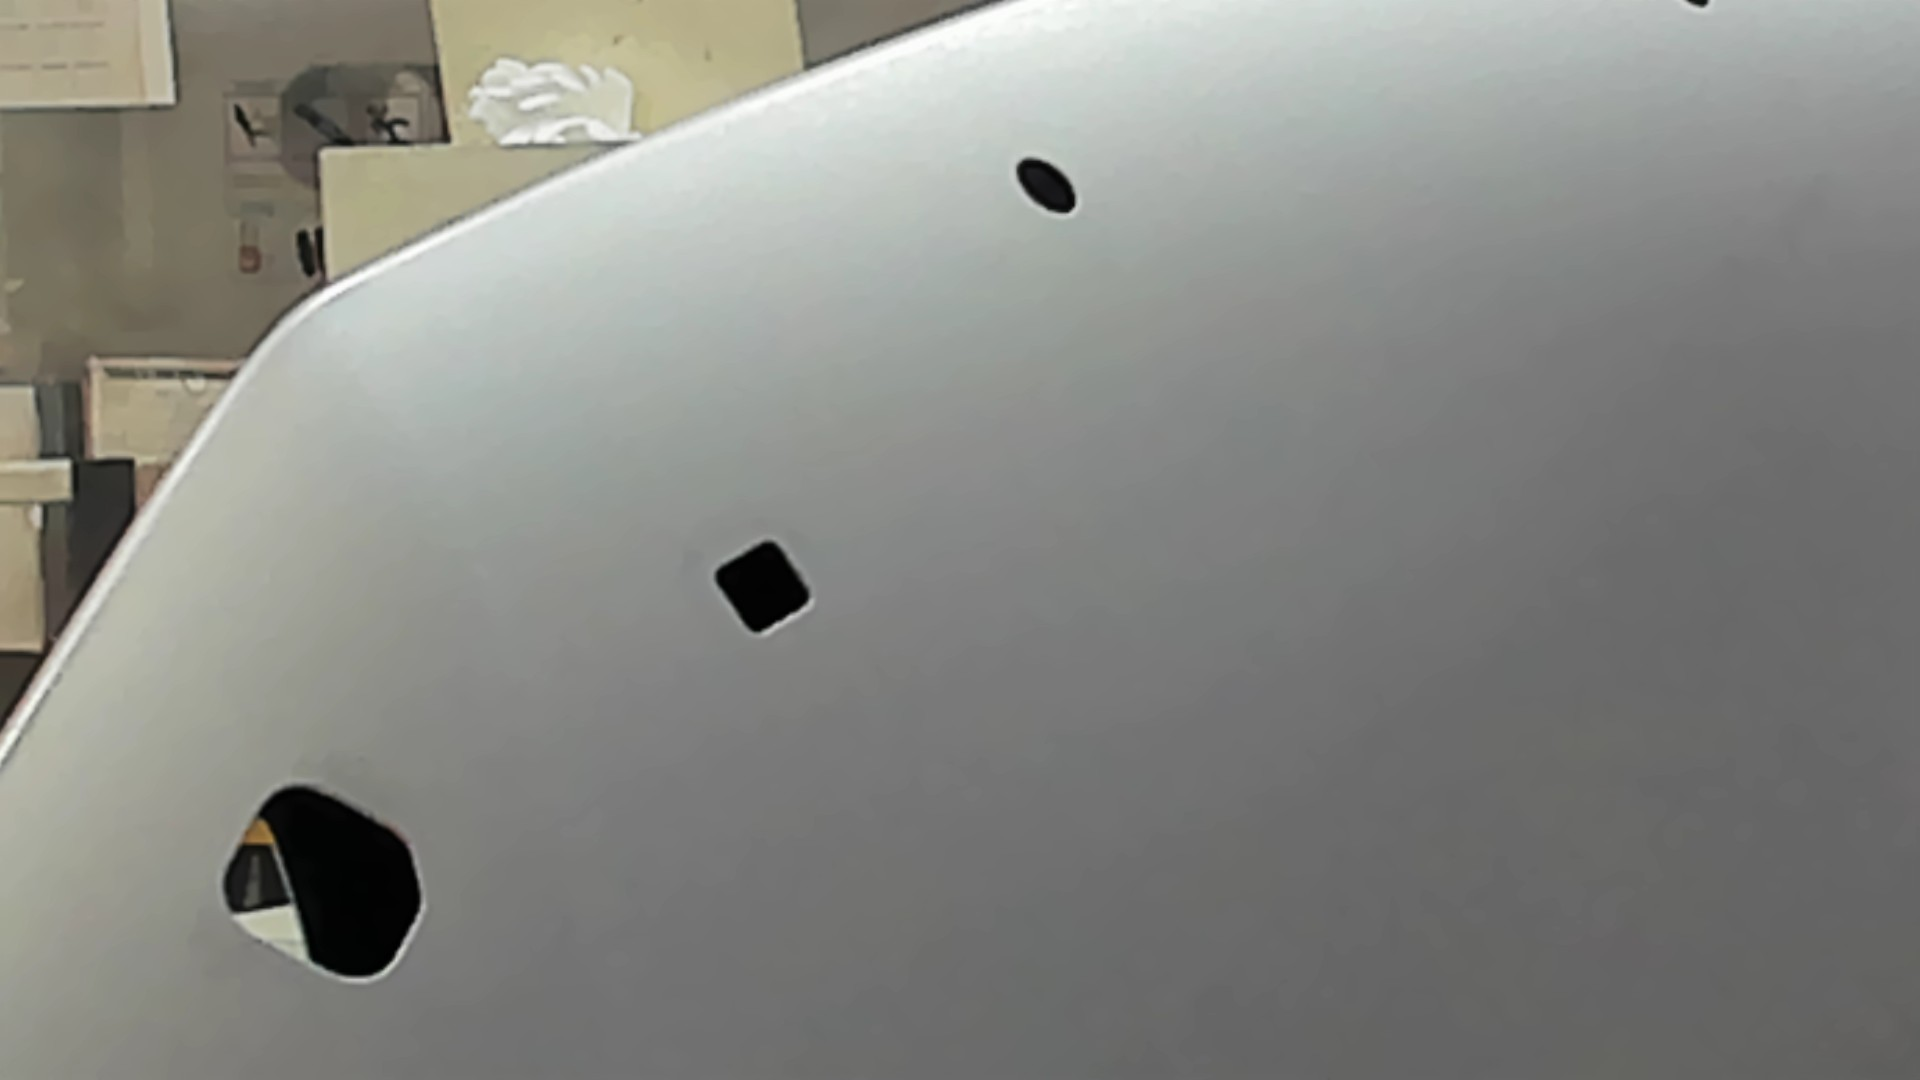Agujero: (712, 537, 814, 637), (1013, 156, 1076, 215)
Agujerote: (222, 781, 429, 986)
